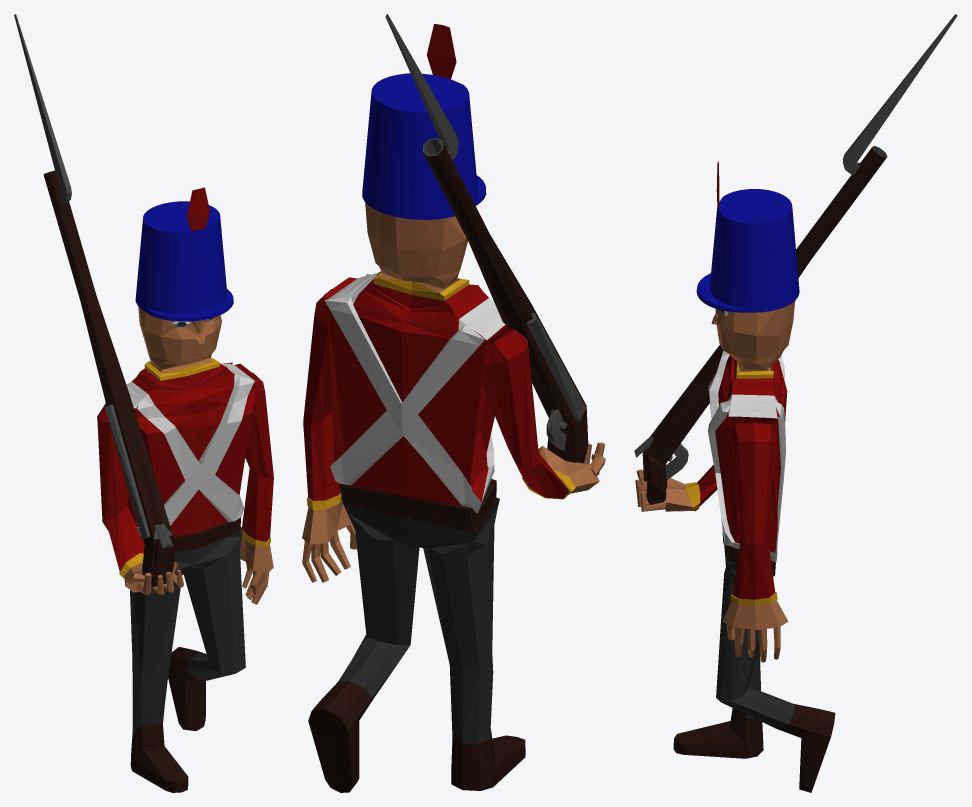
Rendered from Infantry_000064.obj.
3 renders of one model, left to right at view 1: azimuth 30°, elevation 25°; view 2: azimuth 150°, elevation 25°; view 3: azimuth 270°, elevation 25°, orthographic. The views are drawn at different scales.
Parts seen in each view (by area): view 1: {Man}_Circle, {Mesket}_Cube.001; view 2: {Man}_Circle, {Mesket}_Cube.001; view 3: {Man}_Circle, {Mesket}_Cube.001.
Boxes of the visible parts, left/top/right/bottom form: {Man}_Circle: left=97, top=187, right=273, bottom=792; {Mesket}_Cube.001: left=14, top=14, right=174, bottom=587; {Man}_Circle: left=302, top=24, right=605, bottom=792; {Mesket}_Cube.001: left=385, top=14, right=588, bottom=463; {Man}_Circle: left=635, top=161, right=835, bottom=792; {Mesket}_Cube.001: left=634, top=14, right=957, bottom=504.
Size of the model in its own units: 5.63 by 19.57 by 7.93.
